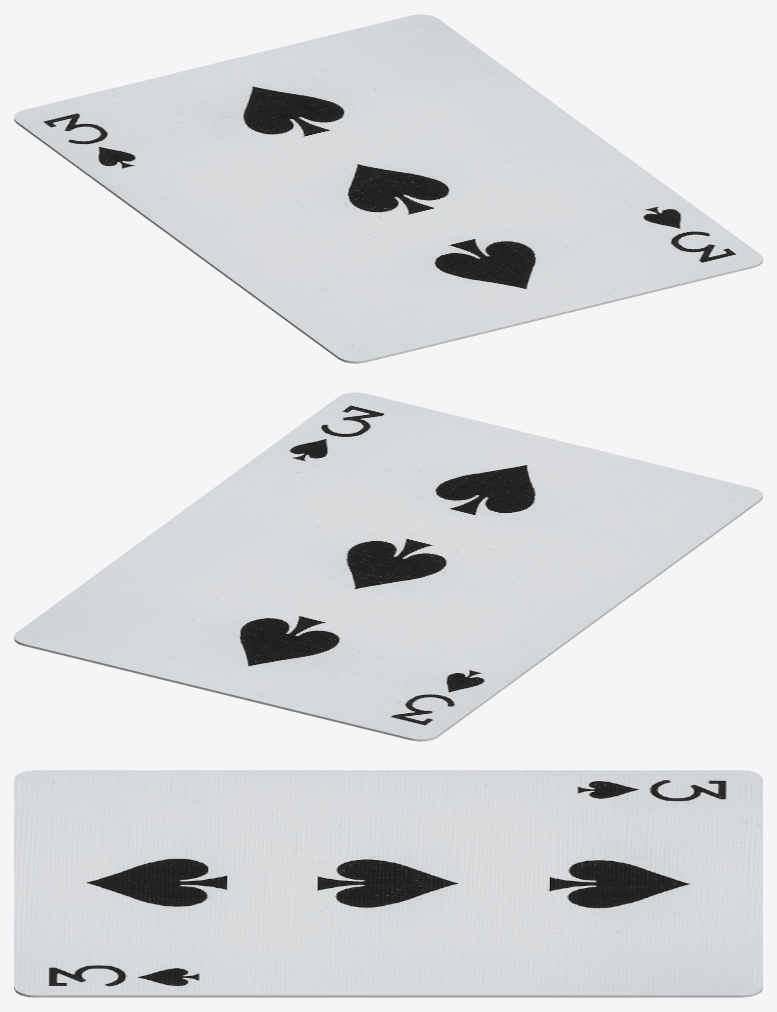
Rendered from spades_3.fbx.
The picture shows the model from 3 angles, top to bottom: view 1: azimuth 30°, elevation 25°; view 2: azimuth 150°, elevation 25°; view 3: azimuth 270°, elevation 25°; orthographic projection. The views are drawn at different scales.
Parts seen in each view (by area): view 1: Spades_3_2; view 2: Spades_3_2; view 3: Spades_3_2.
Boxes of the visible parts, <box> form: Spades_3_2: <box>14,14,762,363</box>; Spades_3_2: <box>14,392,762,741</box>; Spades_3_2: <box>14,770,762,997</box>.
Size of the model in its own units: 6.26 by 0.029 by 8.8.
3 materials, 2 textured.
